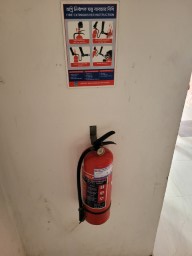fire_extinguisher: (94, 100, 169, 153)
